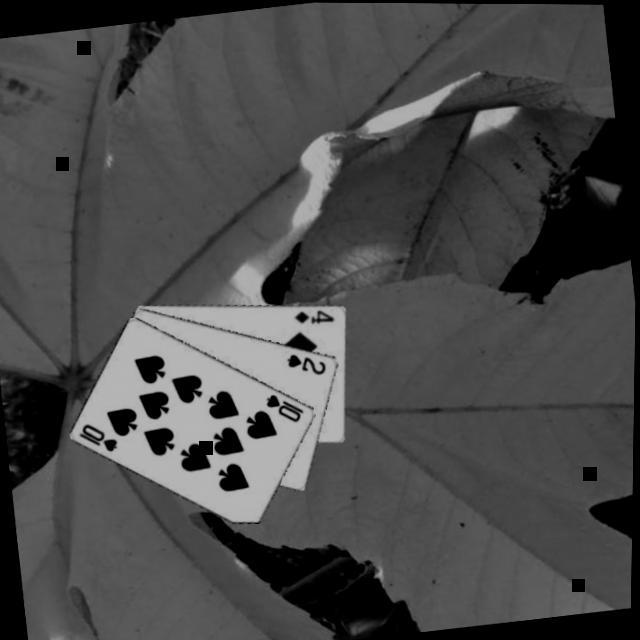10S: (262, 388, 308, 429), (75, 417, 121, 457)
2S: (283, 347, 330, 381)
4D: (291, 304, 337, 329)
